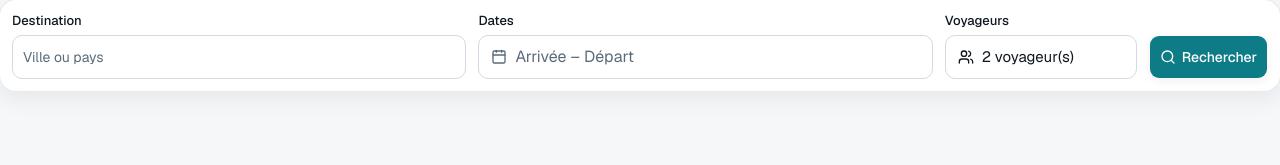
Scenario: SearchBar › rejette une destination vide
Click the button with test id "search-submit" at {"x": 1208, "y": 57}, box [1149, 35, 1268, 79]
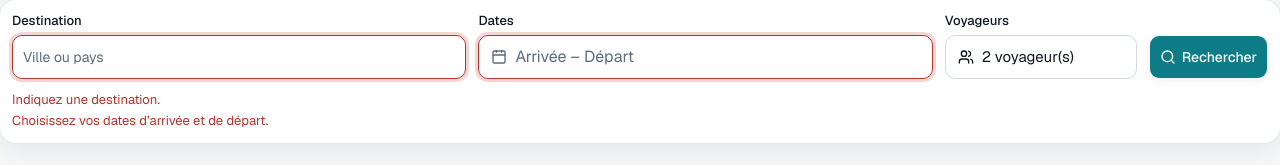
Now the message "Indiquez une destination. Choisissez vos dates d’arrivée et de départ." is shown, box [12, 91, 268, 129]
